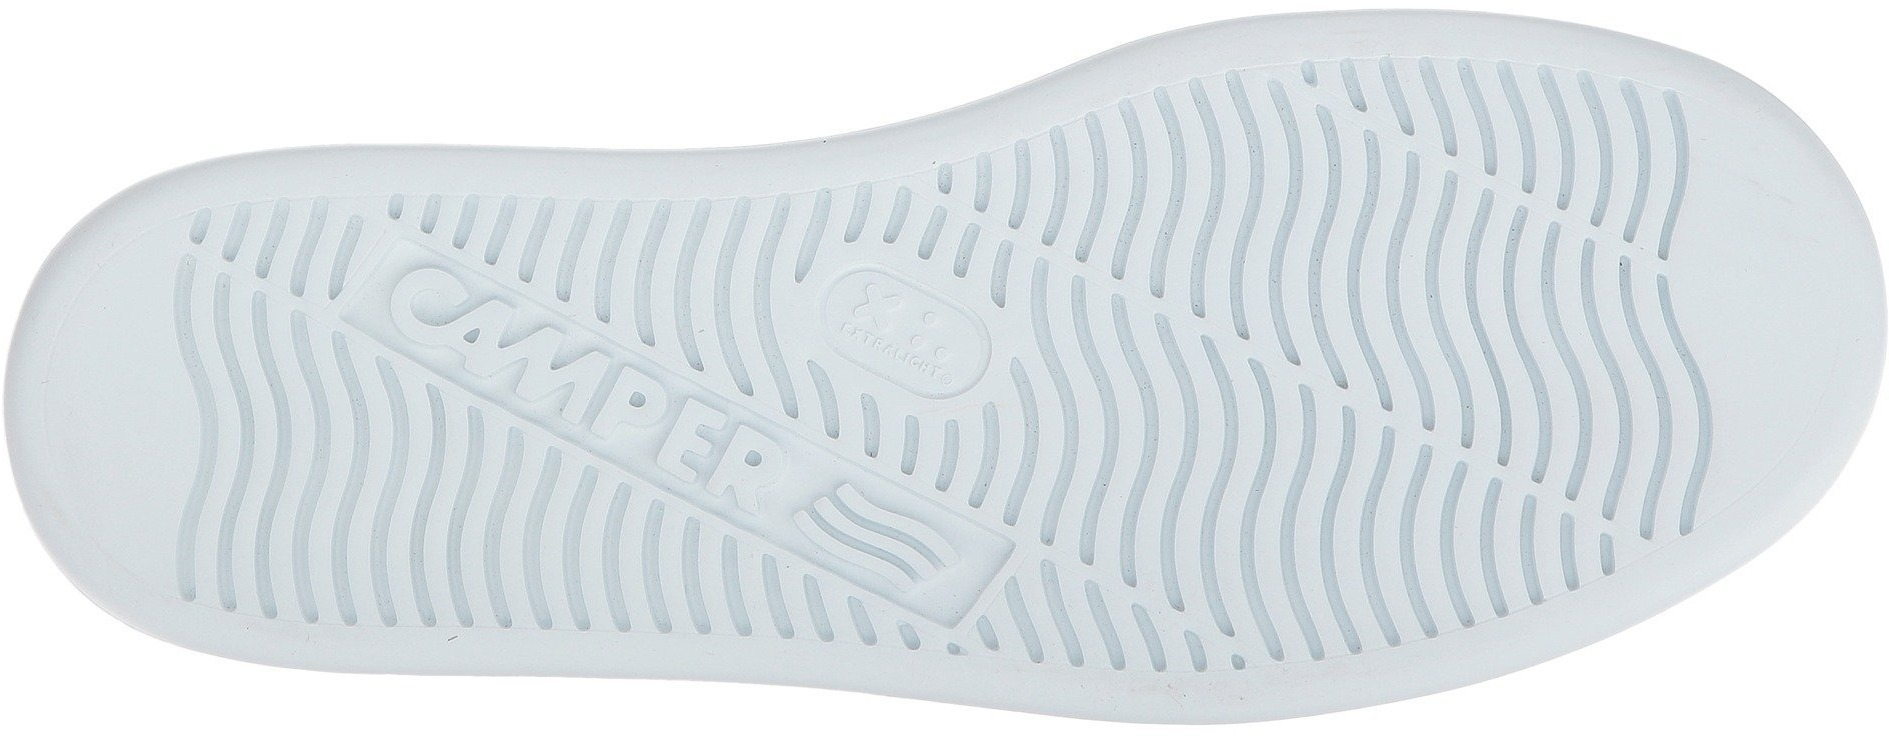chevron: (1281, 86, 1650, 420), (990, 129, 1271, 412), (167, 378, 460, 617), (1157, 424, 1367, 644), (1401, 443, 1665, 610), (626, 195, 816, 345)
other: (1691, 192, 1858, 353), (16, 328, 172, 473)
text: (392, 255, 529, 389), (676, 399, 794, 529), (539, 348, 663, 467)
